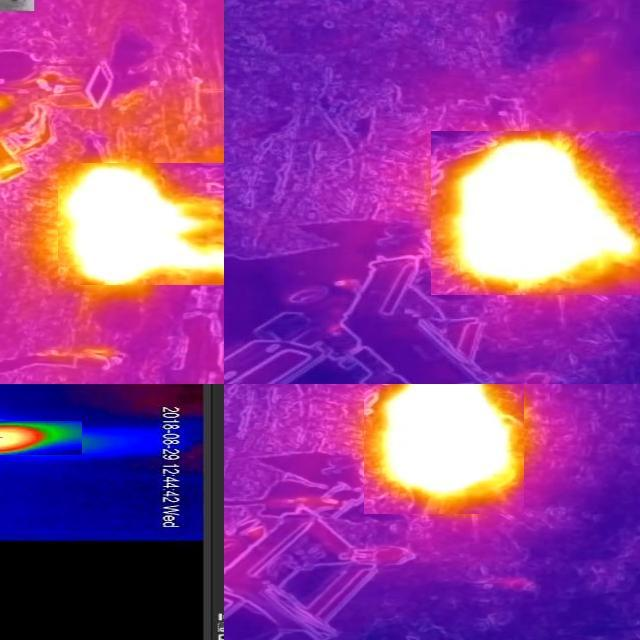fire: (432, 131, 640, 295), (365, 385, 525, 514), (59, 163, 225, 285), (1, 421, 83, 455)
